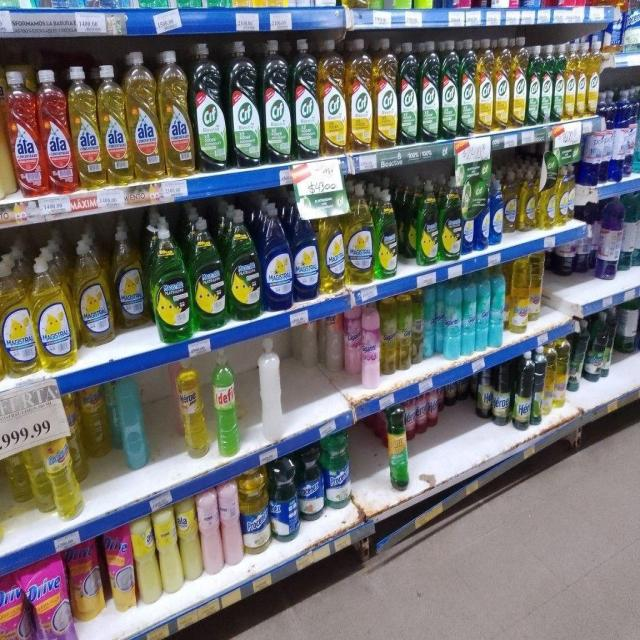ala_conc_amarillo: (161, 48, 193, 177), (129, 50, 160, 181), (72, 64, 102, 190), (101, 62, 129, 184)
ala_conc_azul: (438, 0, 456, 9)
ala_conc_rojo: (8, 68, 40, 198), (41, 68, 72, 195)
ala_crem_amarillo: (134, 515, 158, 605), (158, 505, 180, 596), (179, 497, 200, 583), (0, 65, 7, 201)
cif_conc_bot_amarilla: (321, 37, 346, 155), (373, 36, 398, 149), (348, 37, 372, 152), (477, 37, 493, 133), (494, 36, 510, 130), (511, 36, 527, 128), (588, 40, 600, 116), (566, 42, 576, 120), (576, 41, 586, 118)
cif_conc_botella_verde: (195, 41, 228, 172), (228, 39, 260, 168), (262, 38, 291, 164), (292, 38, 320, 160), (420, 39, 440, 142), (399, 40, 418, 144), (441, 39, 458, 139), (460, 38, 476, 136), (528, 44, 540, 125), (541, 44, 553, 124), (554, 42, 564, 122)
drive: (106, 526, 135, 613)
heroe: (176, 358, 207, 458)
magistral_con_amarillo: (35, 253, 73, 371), (0, 255, 35, 378), (75, 236, 112, 348), (114, 223, 148, 329), (346, 183, 374, 285), (320, 203, 344, 294), (538, 164, 556, 230), (520, 167, 536, 231), (504, 170, 518, 234), (556, 163, 570, 226), (564, 162, 576, 225), (348, 0, 368, 9)
magistral_con_azul: (261, 201, 292, 311), (293, 201, 318, 301), (476, 183, 490, 250), (491, 176, 504, 246), (462, 201, 475, 254)
